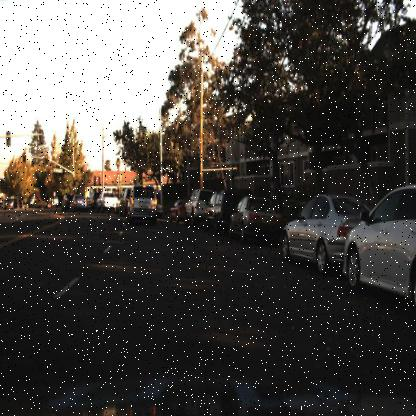car: (346, 183, 416, 308), (277, 191, 345, 283), (225, 194, 284, 243), (229, 194, 280, 250), (125, 184, 157, 226), (203, 187, 230, 233), (203, 184, 227, 233), (184, 190, 210, 228), (186, 190, 206, 226), (96, 190, 121, 216), (96, 189, 119, 212), (168, 194, 184, 224), (59, 190, 78, 212), (68, 193, 88, 213), (68, 190, 87, 210), (60, 192, 73, 214), (87, 189, 98, 215), (154, 193, 165, 219), (2, 196, 16, 216), (118, 189, 130, 212)
trafficLight-Red: (70, 172, 80, 190), (20, 149, 29, 165), (42, 153, 51, 167), (44, 152, 50, 166), (72, 175, 77, 187)
trafficLight-RedLeft: (20, 149, 29, 167)
